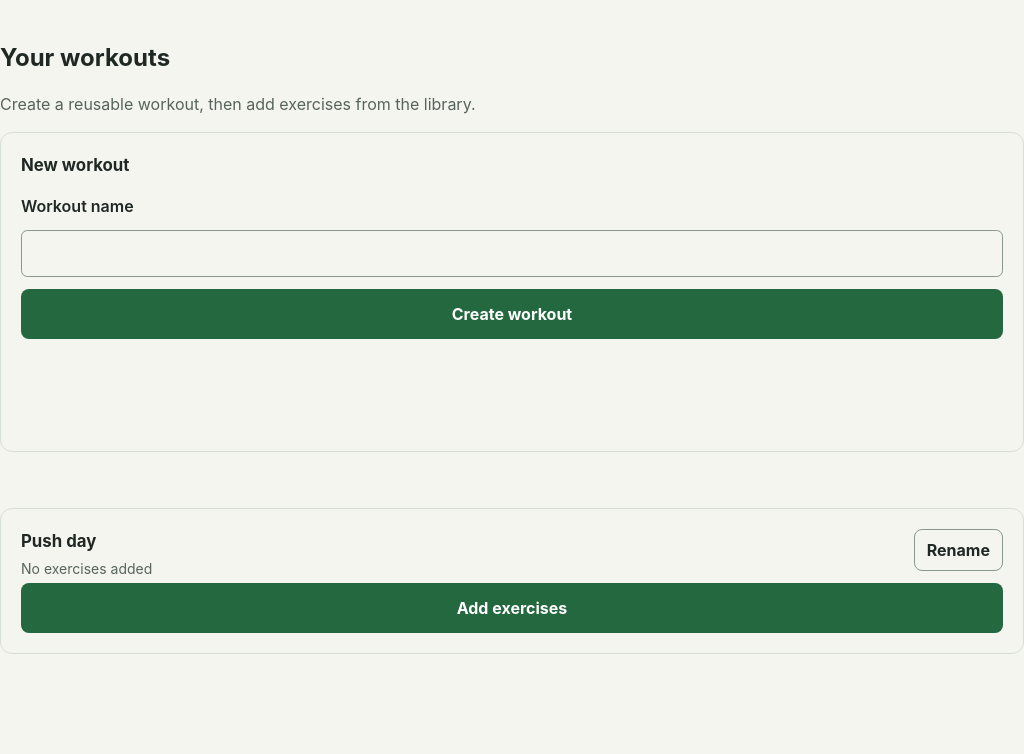
Test: saved workouts › preserves a failed rename then replaces the confirmed row
Click the button with aria-label "Rename Push day" at [958, 550], box [914,529,1003,571]
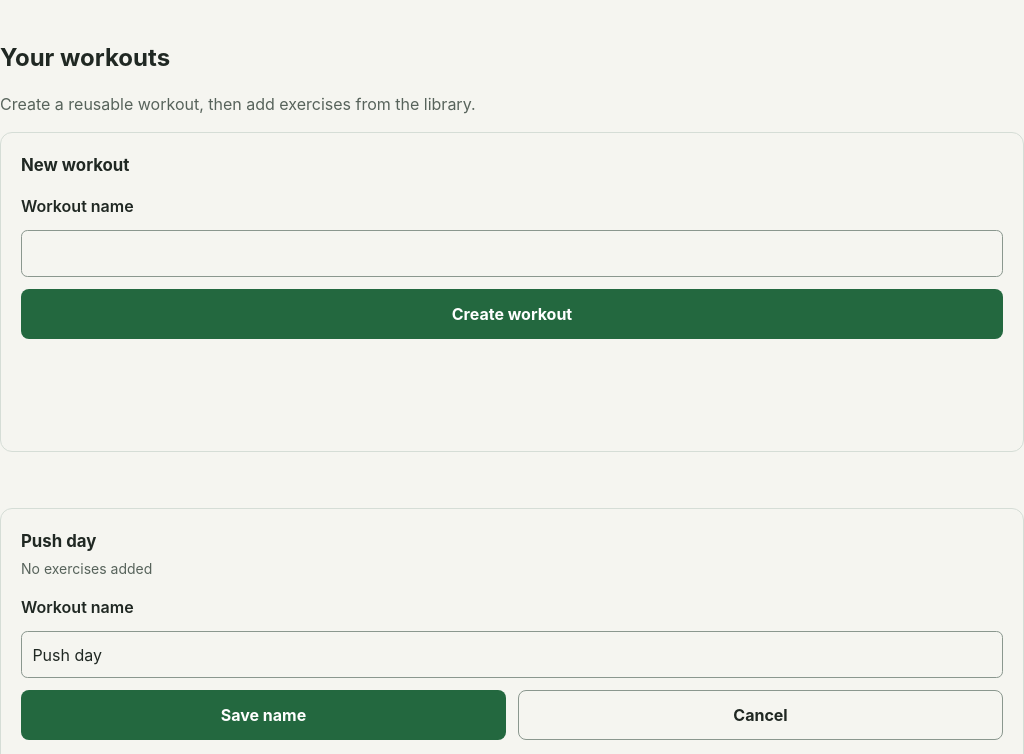
Replace the text in the field labelled "Workout name" below "No exercises added" with "Upper body" at [512, 655], box [21,631,1003,678]
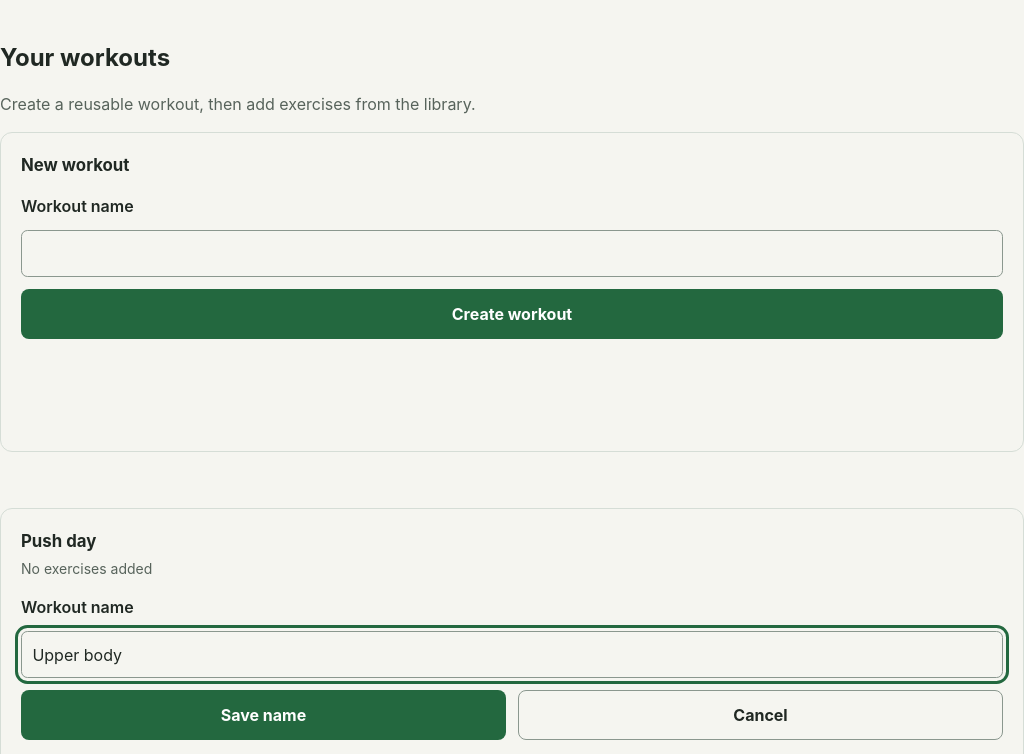
Click the button "Save name" at [264, 715], box [21,690,506,740]
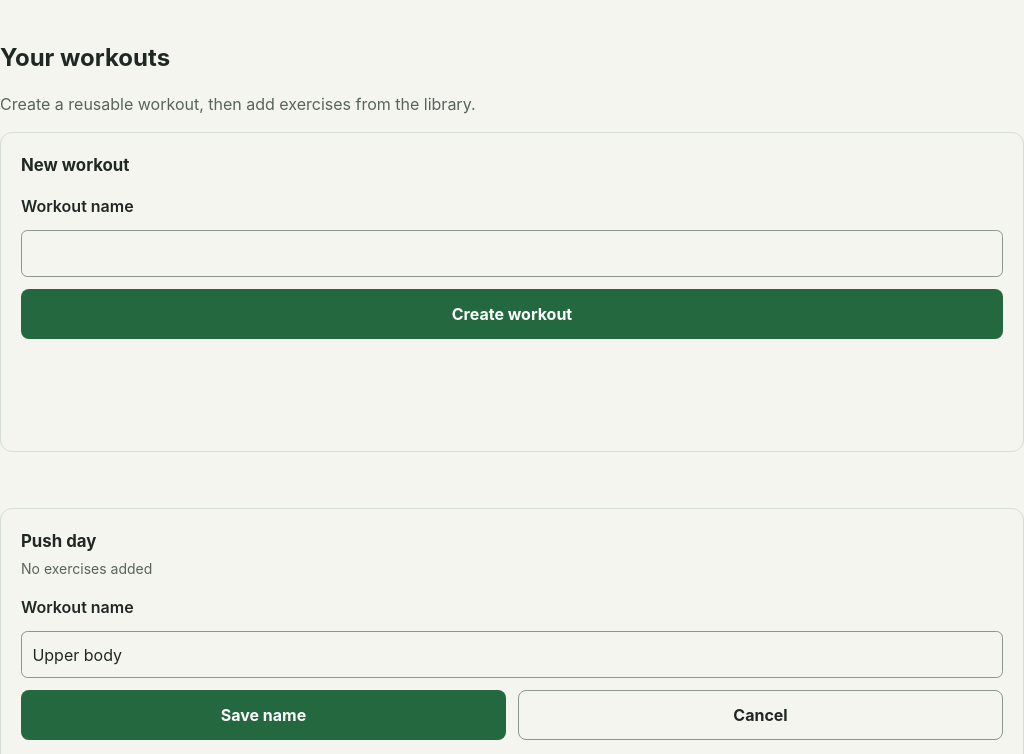
Expected: the heading "Push day" is shown, [21,531,96,551]
Click the button "Save name" at [264, 715], box [21,690,506,740]
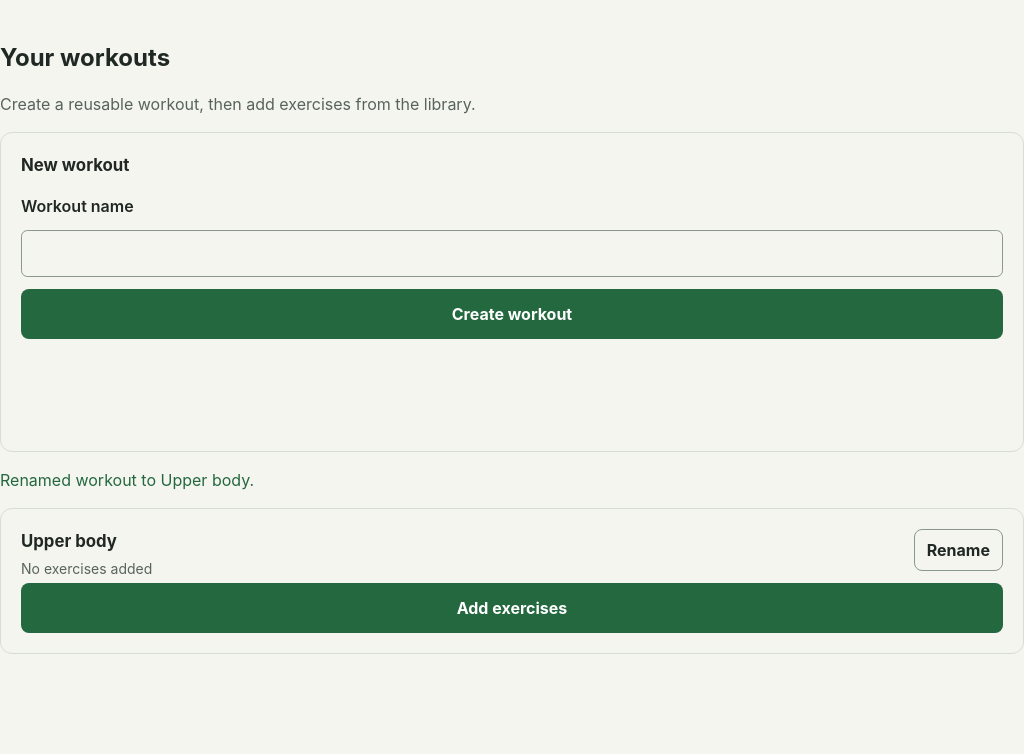
Expected: the number of list items is 1, [0,508,1023,654]
Result: the heading "Upper body" is shown at [21,531,117,551]
